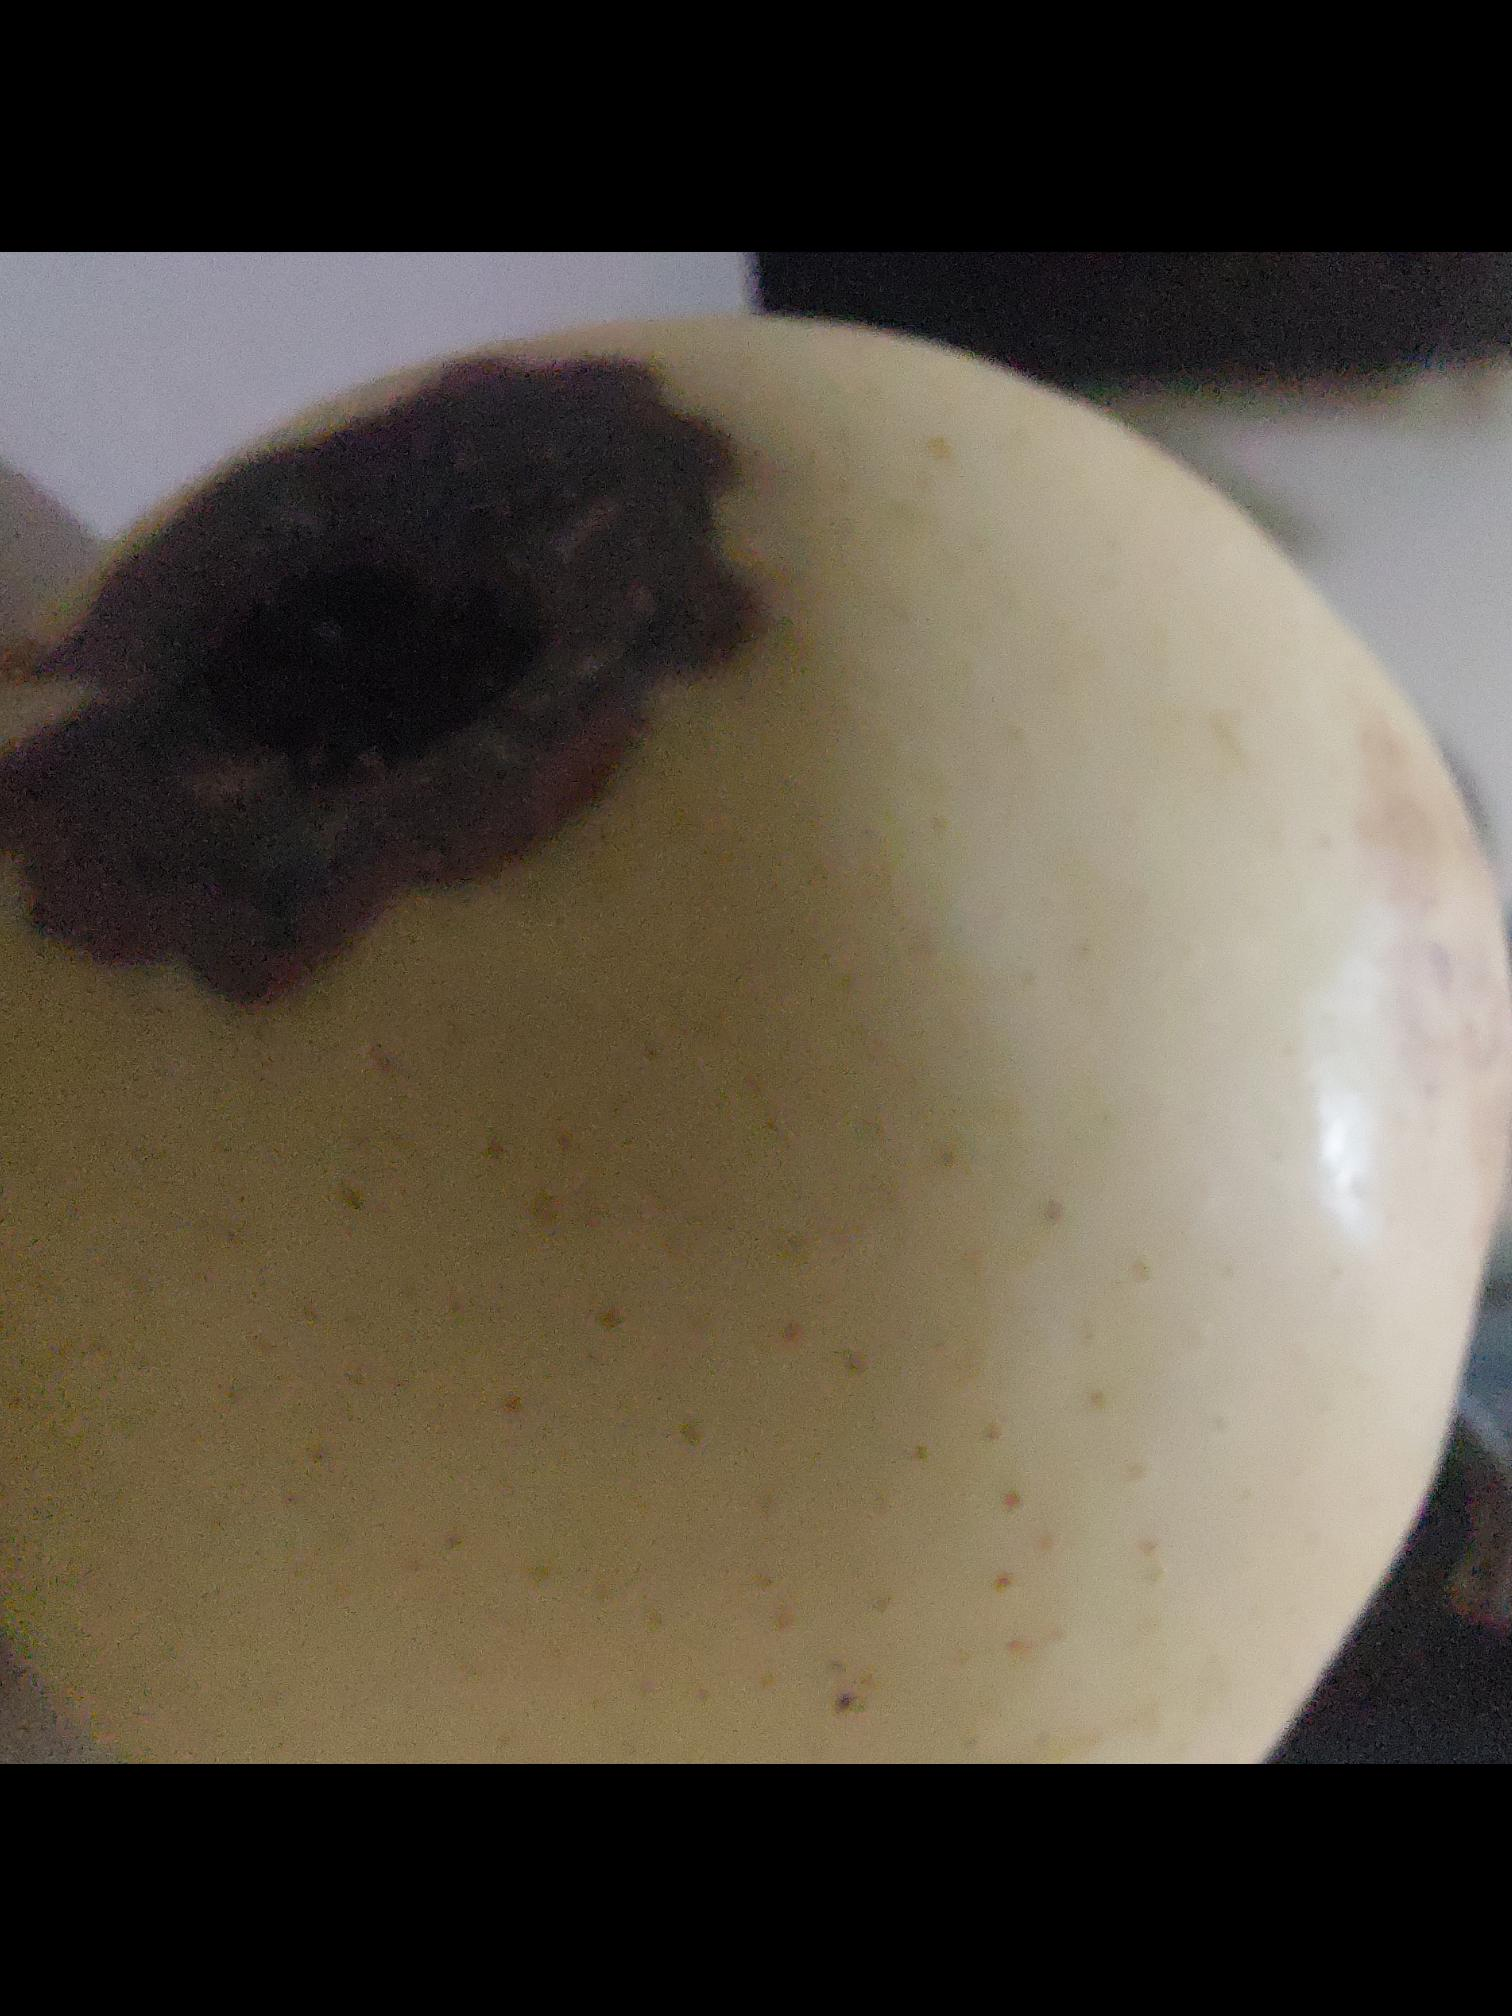Bad Pear: (0, 305, 1512, 1764)
